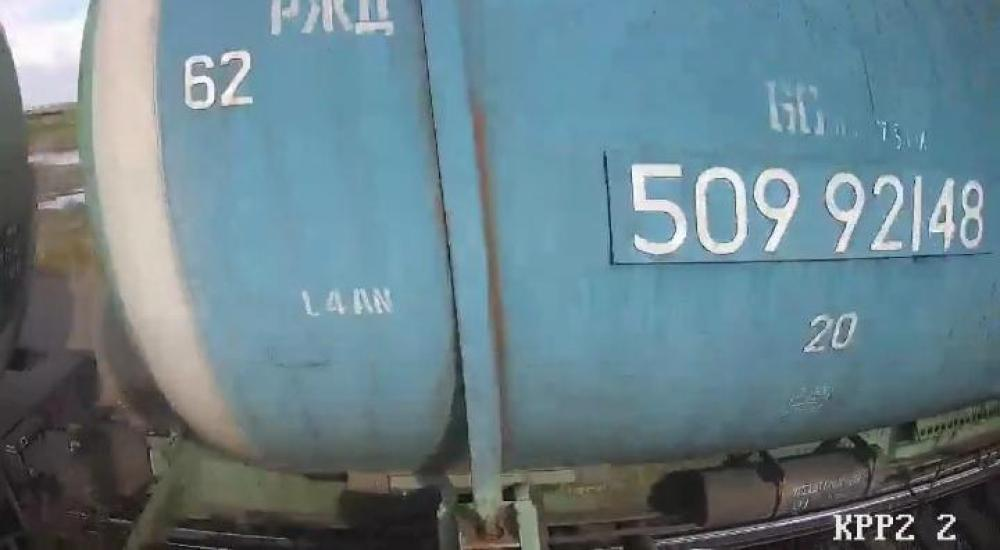Wagon-number: (620, 152, 990, 260)
